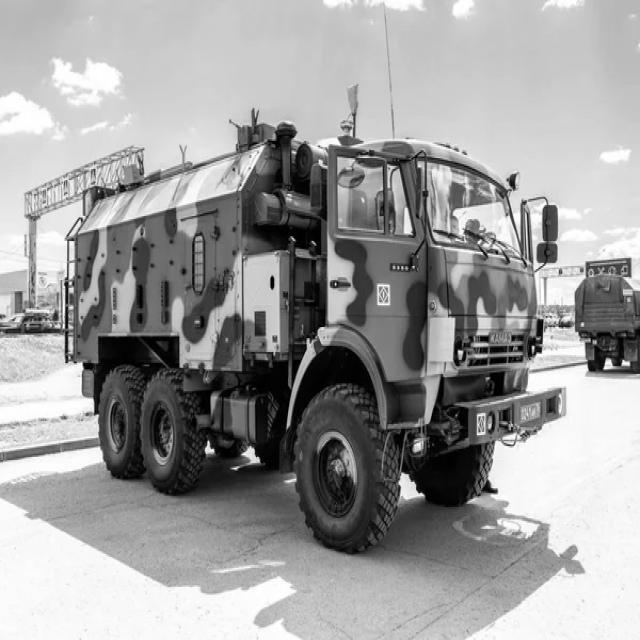Truck: (70, 116, 568, 552), (576, 263, 640, 373)
